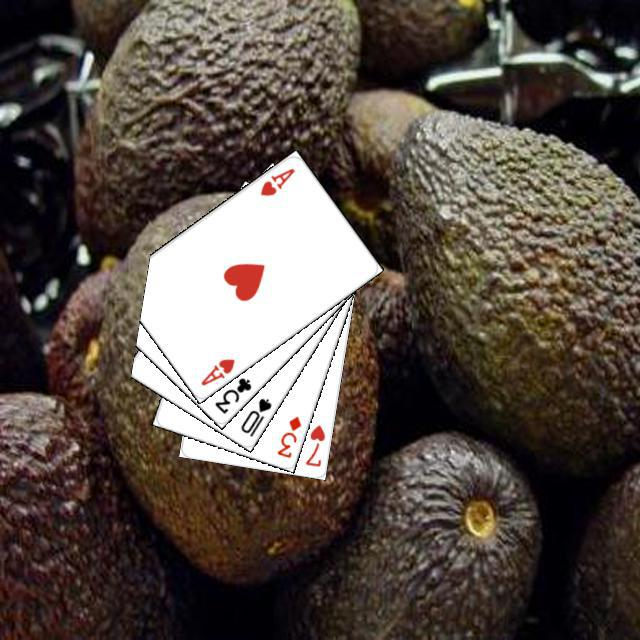10s: (236, 393, 274, 439)
3c: (210, 373, 253, 416)
3d: (272, 411, 303, 460)
7h: (300, 420, 327, 468)
Ah: (255, 163, 297, 198), (196, 353, 236, 388)
